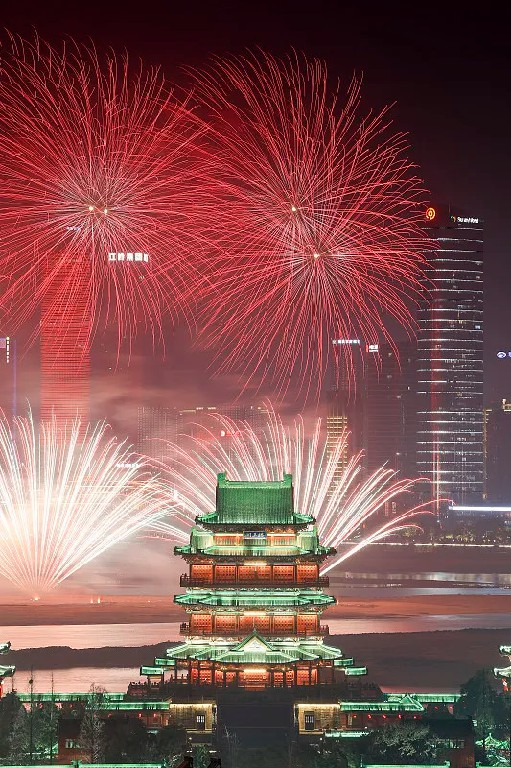Teng: (141, 471, 367, 690)
